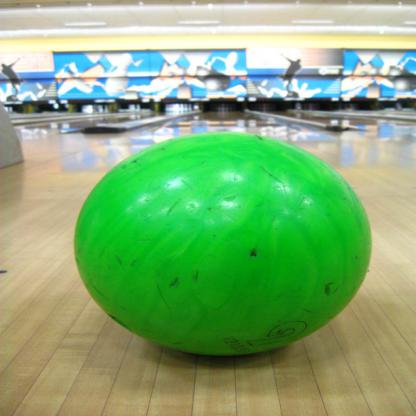Ball: (72, 132, 372, 358)
